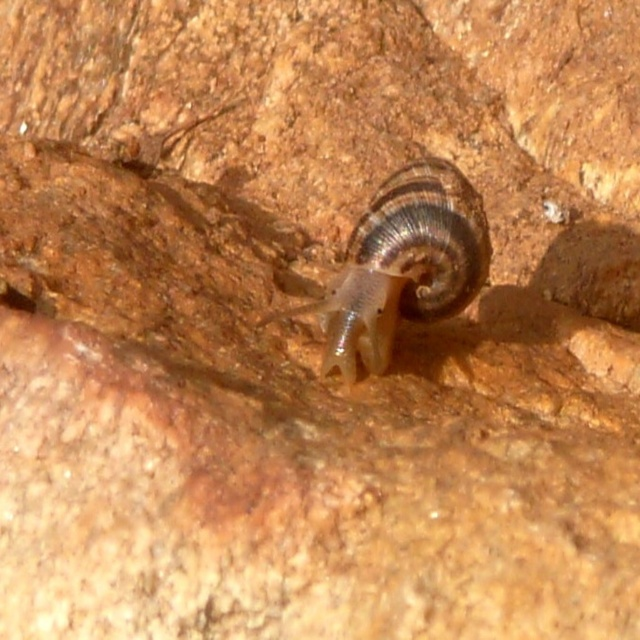Snail: (247, 150, 493, 396)
